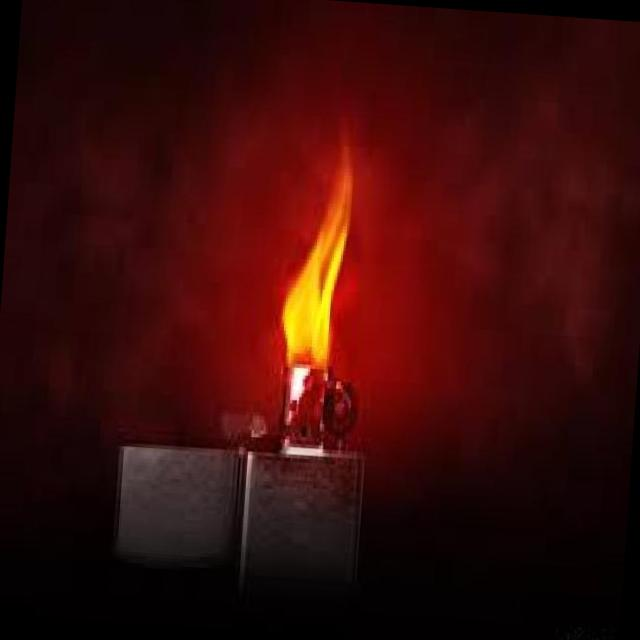Fire: (272, 153, 358, 363)
